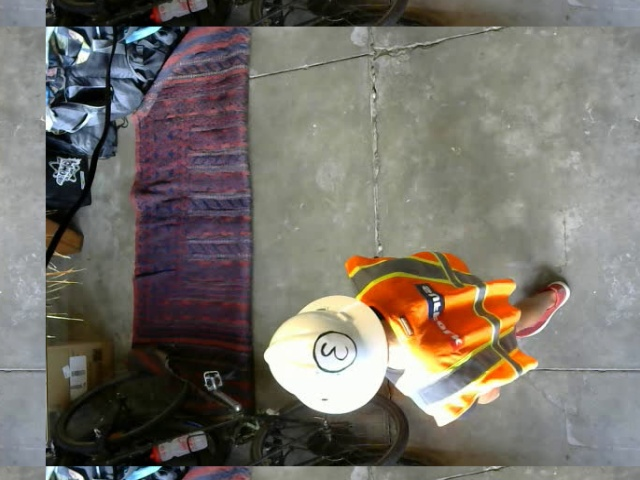three: (311, 330, 356, 373)
